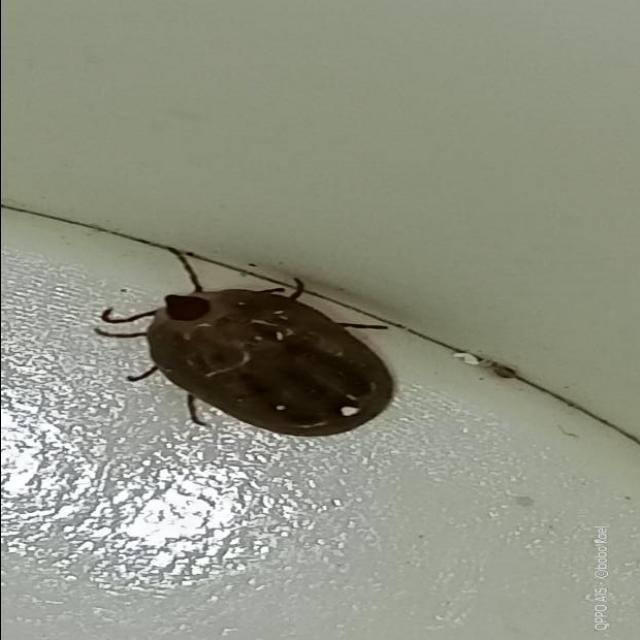Rhipicephalus Sanguineus-F-Fed: (92, 238, 394, 437)
